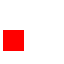square: (3, 30, 23, 50)
